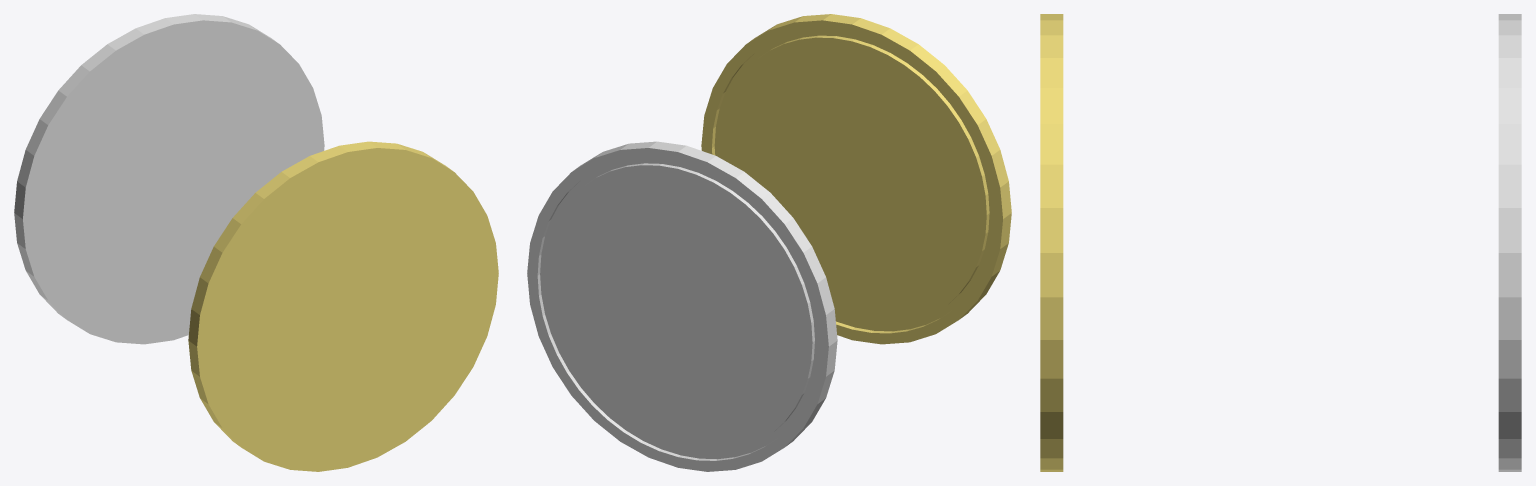
Rendered from coins.glb.
3 renders of one model, left to right at view 1: azimuth 30°, elevation 25°; view 2: azimuth 150°, elevation 25°; view 3: azimuth 270°, elevation 25°, orthographic. The views are drawn at different scales.
Visible parts, largest first — view 1: Coin.001, Coin.002; view 2: Coin.002, Coin.001; view 3: Coin.001, Coin.002.
Boxes of the visible parts, left/top/right/bottom form: Coin.001: left=188, top=141, right=498, bottom=471; Coin.002: left=14, top=14, right=324, bottom=344; Coin.002: left=527, top=141, right=837, bottom=471; Coin.001: left=701, top=14, right=1011, bottom=344; Coin.001: left=1040, top=14, right=1063, bottom=471; Coin.002: left=1498, top=14, right=1521, bottom=471.
Size of the model in its own units: 2 by 2 by 2.1.
